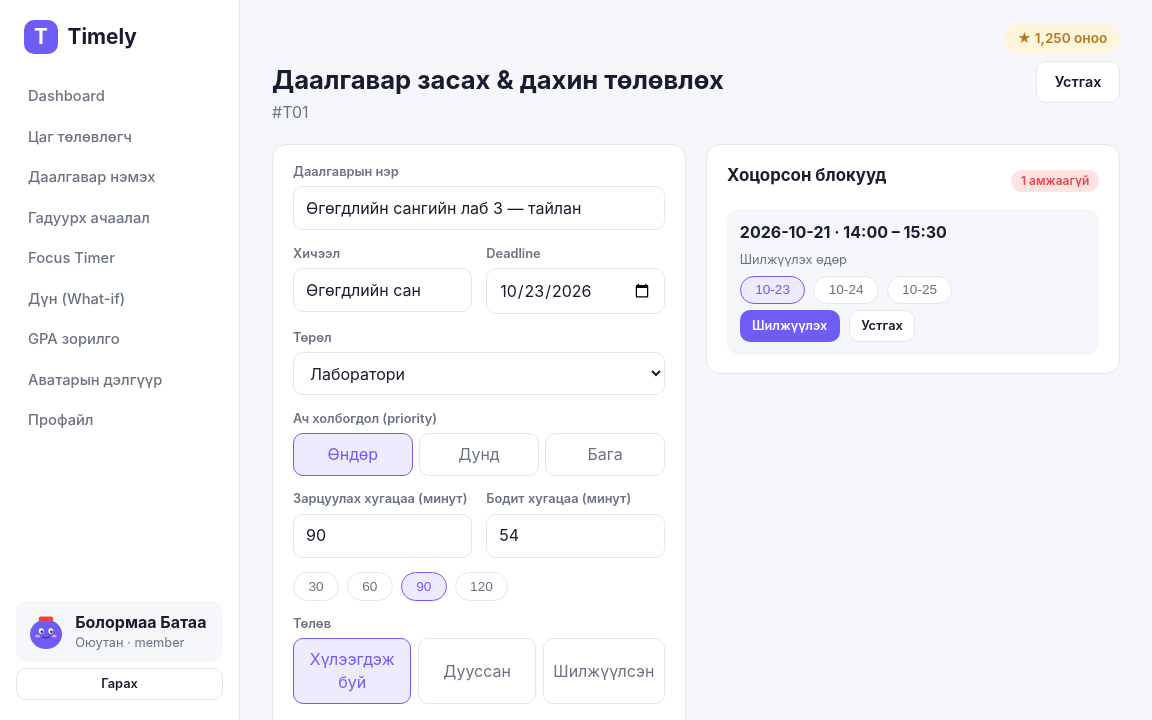
Test: task CRUD (mock) › хоцорсон блокыг шилжүүлнэ
Click the button with test id "reschedule": (790, 326) [740,310,840,342]
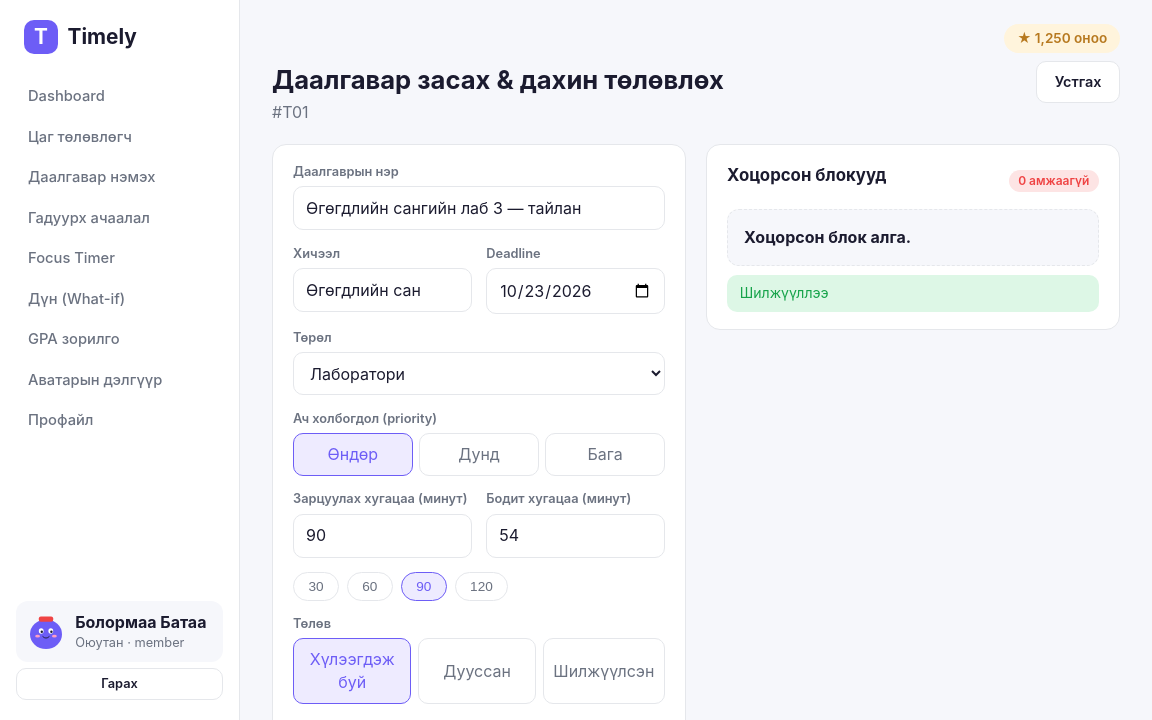
Expected: the message with test id "reschedule-msg" reads "Шилжүүллээ", [740,284,829,301]
Expected: the text "Хоцорсон блок алга." is shown, [744,226,911,246]
